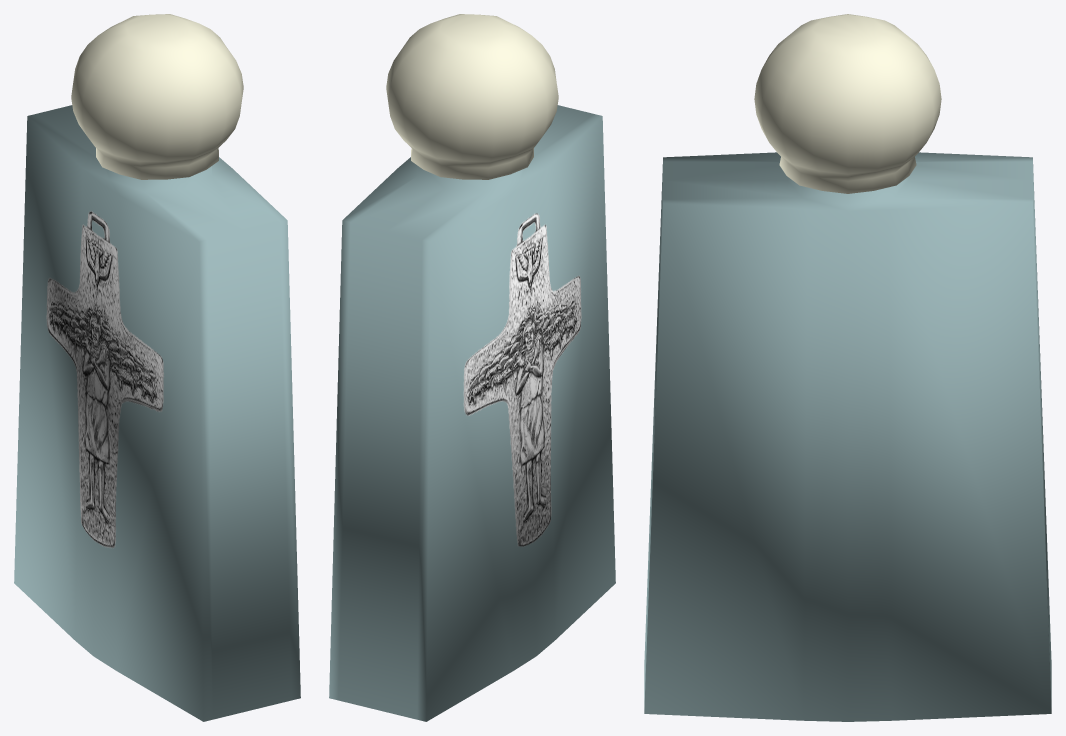
The model's file is HolyWater.fbx.
The picture shows the model from 3 angles, left to right: view 1: azimuth 30°, elevation 25°; view 2: azimuth 150°, elevation 25°; view 3: azimuth 270°, elevation 25°; orthographic projection. The views are drawn at different scales.
Parts seen in each view (by area): view 1: Bottle low; view 2: Bottle low; view 3: Bottle low.
Boxes of the visible parts, left/top/right/bottom form: Bottle low: left=14, top=14, right=300, bottom=721; Bottle low: left=329, top=14, right=615, bottom=721; Bottle low: left=644, top=14, right=1051, bottom=721.
Size of the model in its own units: 101 by 393 by 220.
